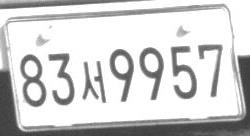3: (47, 53, 75, 106)
5: (170, 45, 197, 100)
7: (198, 44, 223, 97)
8: (18, 54, 47, 107)
9: (138, 46, 165, 100), (109, 47, 134, 102)
서: (81, 60, 107, 103)
